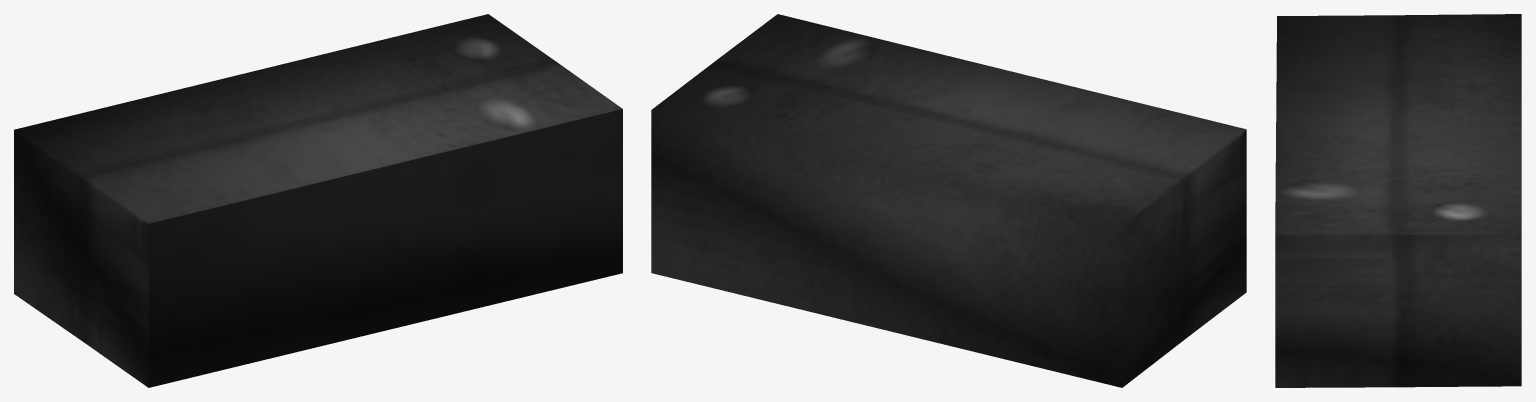
Rendered from TLOG_ShortyClip.fbx.
3 renders of one model, left to right at view 1: azimuth 30°, elevation 25°; view 2: azimuth 150°, elevation 25°; view 3: azimuth 270°, elevation 25°, orthographic. The views are drawn at different scales.
Visible parts, largest first — view 1: shorty.001; view 2: shorty.001; view 3: shorty.001.
Boxes of the visible parts, x1=… form: shorty.001: x1=14, y1=14, x2=622, y2=387; shorty.001: x1=651, y1=14, x2=1246, y2=387; shorty.001: x1=1275, y1=14, x2=1521, y2=387.
Bounding box in the file's own units: 0.0429 × 0.0141 × 0.0203.
